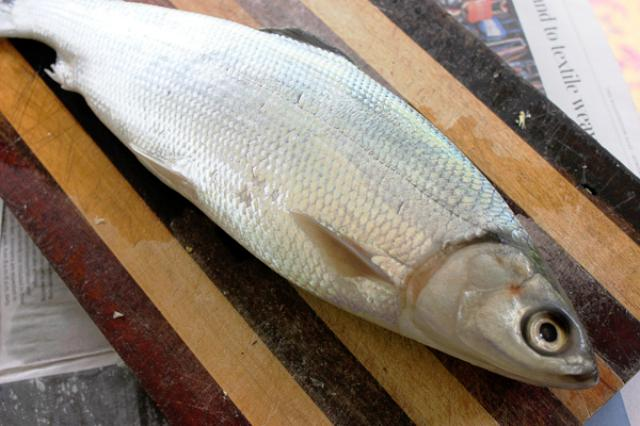Healthy Fish: (0, 0, 598, 389)
